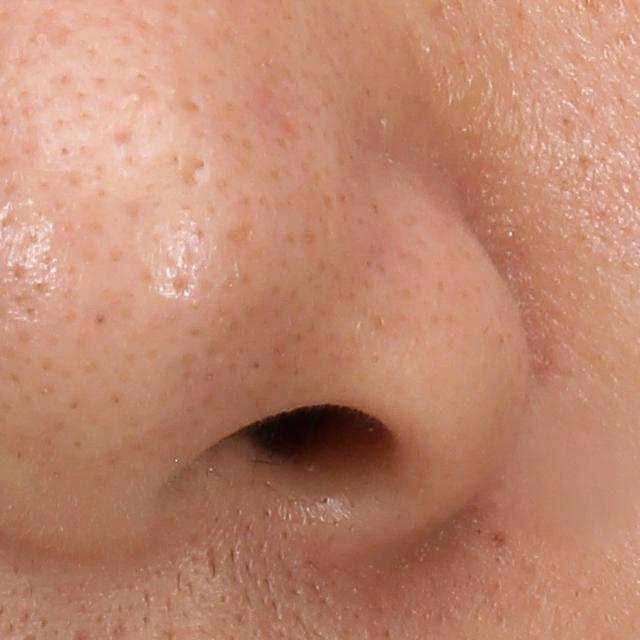atrophic_scar: (220, 221, 257, 252), (180, 156, 208, 193), (109, 123, 134, 149)
